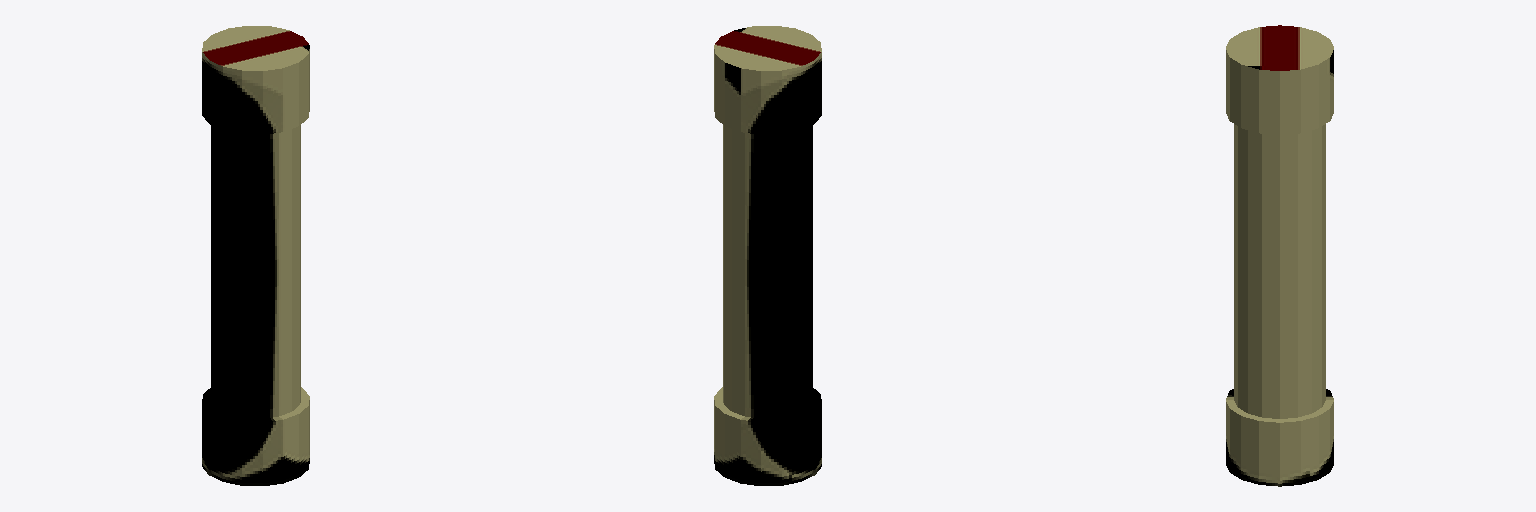
3 renders of one model, left to right at view 1: azimuth 30°, elevation 25°; view 2: azimuth 150°, elevation 25°; view 3: azimuth 270°, elevation 25°, orthographic.
Visible parts, largest first — view 1: Cube.033_Cube.001_Cube.033_Cube.004; view 2: Cube.033_Cube.001_Cube.033_Cube.004; view 3: Cube.033_Cube.001_Cube.033_Cube.004.
Boxes of the visible parts, x1=… form: Cube.033_Cube.001_Cube.033_Cube.004: x1=202, y1=26, x2=309, y2=485; Cube.033_Cube.001_Cube.033_Cube.004: x1=714, y1=26, x2=821, y2=485; Cube.033_Cube.001_Cube.033_Cube.004: x1=1226, y1=25, x2=1333, y2=486.
Size of the model in its own units: 0.0506 by 0.213 by 0.0506.
1 materials, 1 textured.